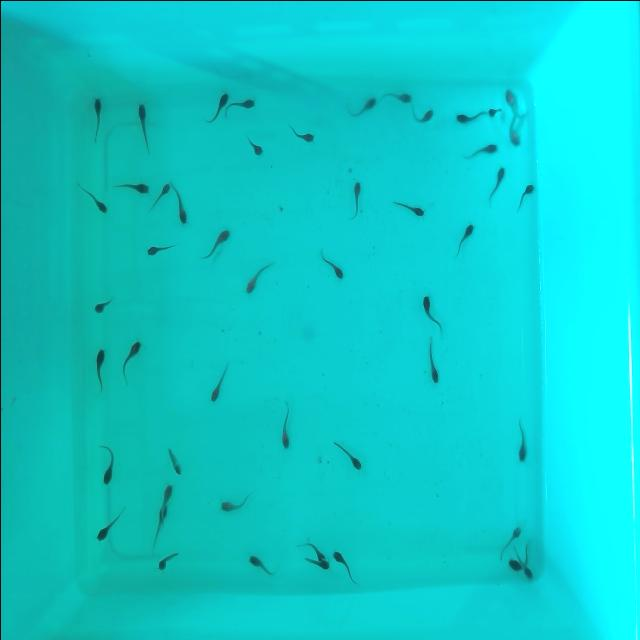lele: (90, 504, 128, 545), (328, 545, 360, 585), (199, 225, 233, 261), (76, 180, 110, 216), (115, 337, 141, 384), (490, 524, 520, 564), (330, 436, 364, 470), (418, 294, 446, 334), (242, 260, 272, 296), (208, 363, 232, 405), (317, 250, 346, 284), (203, 90, 230, 126), (134, 100, 152, 154), (166, 180, 186, 227), (450, 220, 475, 256), (148, 507, 168, 552), (502, 86, 530, 117), (244, 550, 276, 576), (145, 180, 170, 212), (484, 164, 504, 204), (348, 96, 378, 122), (390, 198, 424, 220), (218, 492, 252, 514), (462, 142, 498, 162), (512, 181, 534, 213), (100, 442, 116, 486), (302, 537, 330, 562), (222, 96, 256, 116), (93, 347, 107, 395), (424, 336, 438, 384), (90, 94, 104, 141), (346, 182, 362, 222), (153, 548, 179, 572), (280, 402, 292, 449), (144, 240, 178, 256), (110, 180, 148, 194), (520, 544, 534, 582), (165, 446, 182, 476), (303, 556, 331, 574), (243, 134, 264, 158), (157, 479, 176, 505), (287, 126, 314, 144), (91, 296, 115, 316), (514, 418, 524, 462), (410, 104, 432, 124), (506, 114, 518, 148), (380, 92, 410, 105), (453, 111, 484, 123), (503, 555, 522, 573), (485, 106, 501, 118)
